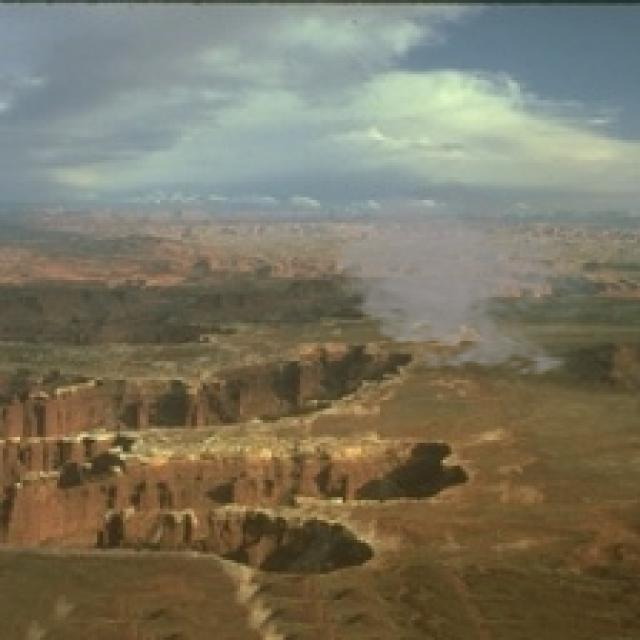smoke: (323, 174, 606, 380)
